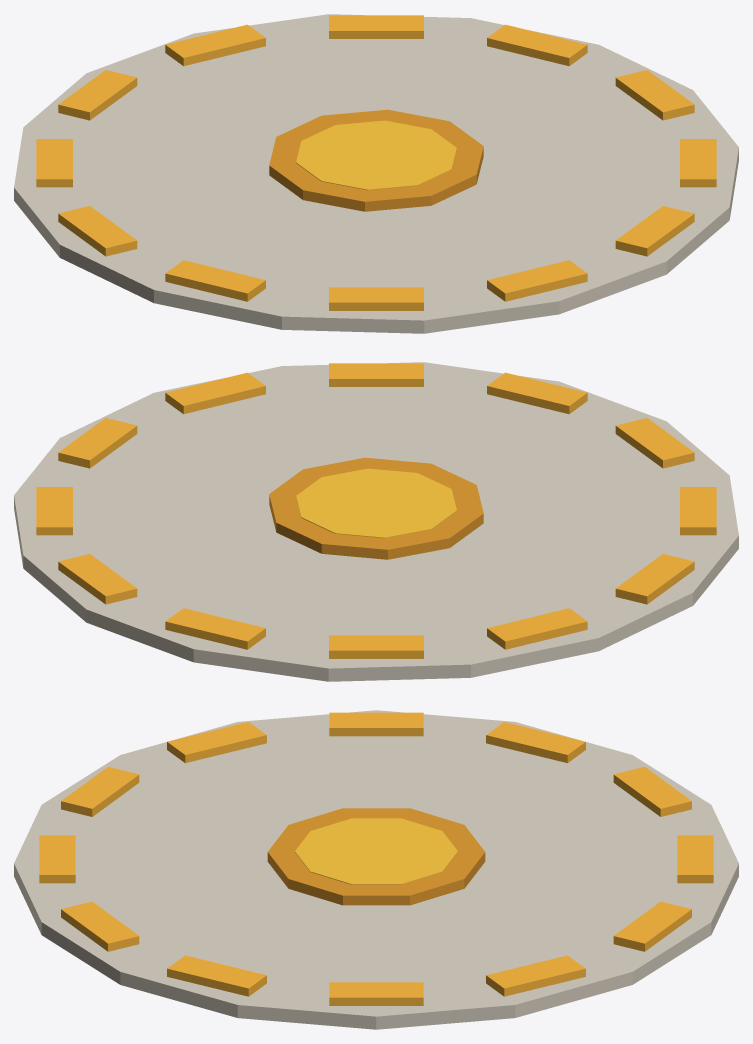
File: build_pad.glb
The picture shows the model from 3 angles, top to bottom: view 1: azimuth 30°, elevation 25°; view 2: azimuth 150°, elevation 25°; view 3: azimuth 270°, elevation 25°; orthographic projection.
Visible parts, largest first — view 1: build_pad; view 2: build_pad; view 3: build_pad.
Part boxes in pixels (box(x1,y1,x2,y2)): build_pad: box(14, 14, 738, 333); build_pad: box(14, 362, 738, 681); build_pad: box(14, 710, 738, 1029).
Bounding box in the file's own units: 2 × 0.077 × 2.
